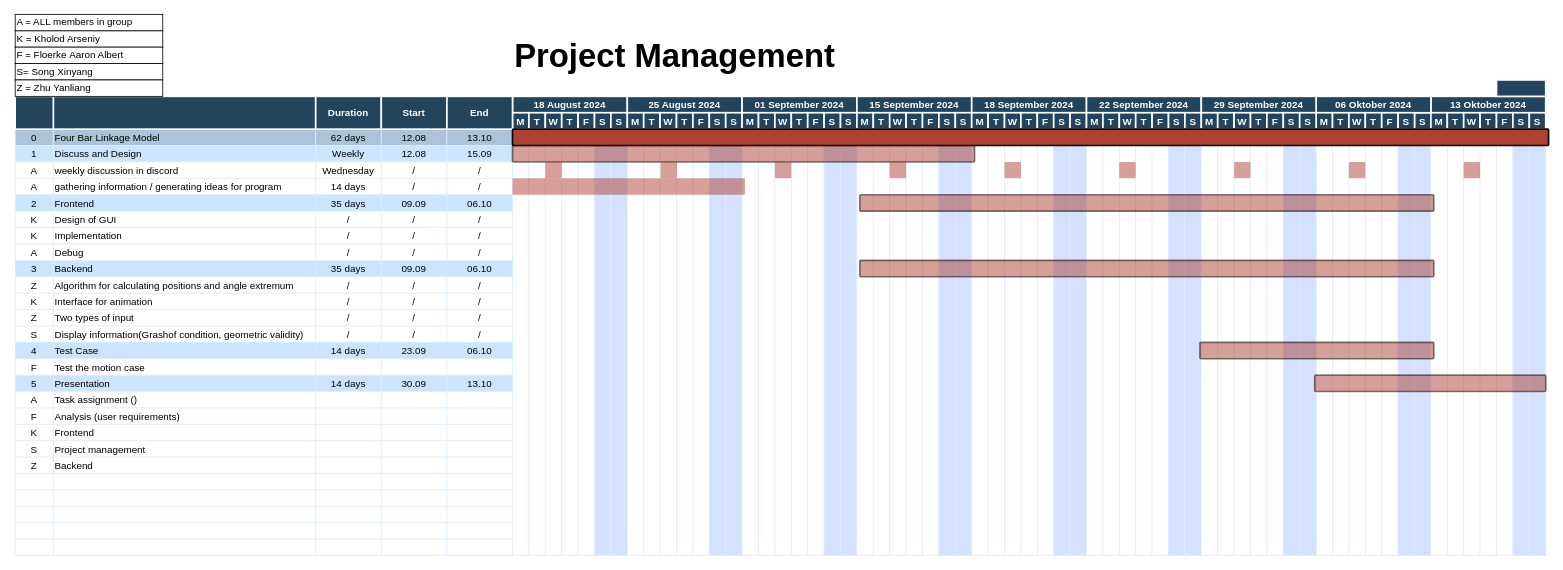
Some shapes in this 1563 by 570 pixel diagram are drawn without their labels. Here are the shapes that lost their labels. From the top down, the box of each, then its label:
(1495, 79, 1546, 97): Sunday
(14, 95, 54, 130): Person
(52, 95, 316, 130): Task
